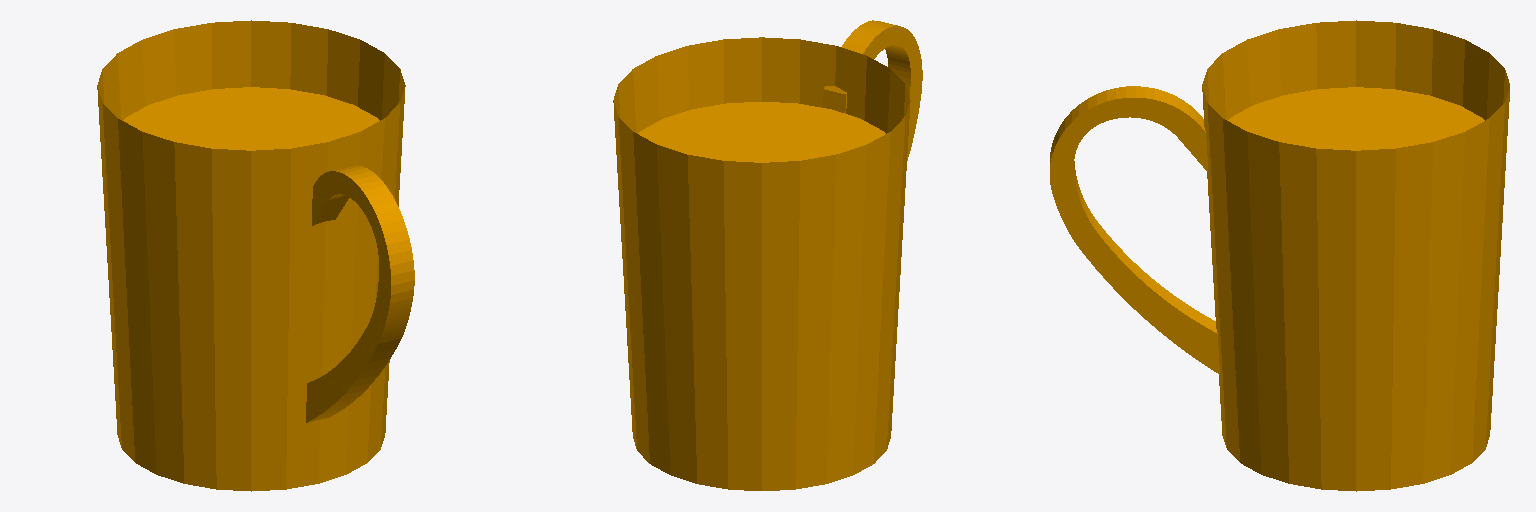
URDF robot description (obj_4):
<?xml version="1.0"?>
<robot name="obj_4">
  <link name="obj_4">
    <visual>
      <origin xyz="0.0 0.0 0.0" rpy="0 0 0"/>
      <geometry>
        <mesh filename="../mesh/ncf_mug_cupholder/obj_assets/4/obj_collision.obj" scale="1 1 1"/>
      </geometry>
    </visual>
    <collision>
      <origin xyz="0.0 0.0 0.0" rpy="0 0 0"/>
      <geometry>
        <mesh filename="../mesh/ncf_mug_cupholder/obj_assets/4/obj_collision.obj" scale="1 1 1"/>
      </geometry>
      <sdf resolution="512"/>
    </collision >    
    <inertial>
      <mass value="0.102"/>
      <inertia ixx="0.0001" ixy="0.0" ixz="0.0" iyy="0.0001" iyz="0.0" izz="0.0001"/>
    </inertial>
  </link>
</robot>

--- What the picture shows (computed from the rendered views, not written in the file) ---
The picture shows the robot from 3 angles, left to right: view 1: azimuth 30°, elevation 25°; view 2: azimuth 150°, elevation 25°; view 3: azimuth 270°, elevation 25°; orthographic projection.
Model obj_4 with 1 links and 0 joints (none), rooted at obj_4, posed all joints at 0.
Visible links, largest first — view 1: obj_4; view 2: obj_4; view 3: obj_4.
Link boxes in pixels (<box>): obj_4: <box>97,20,414,491</box>; obj_4: <box>613,20,922,490</box>; obj_4: <box>1050,20,1509,491</box>.
Size in the robot's own frame: 0.0822 by 0.1228 by 0.1027 metres.
1 mesh visuals loaded from 1 distinct referenced files (1 OBJ).